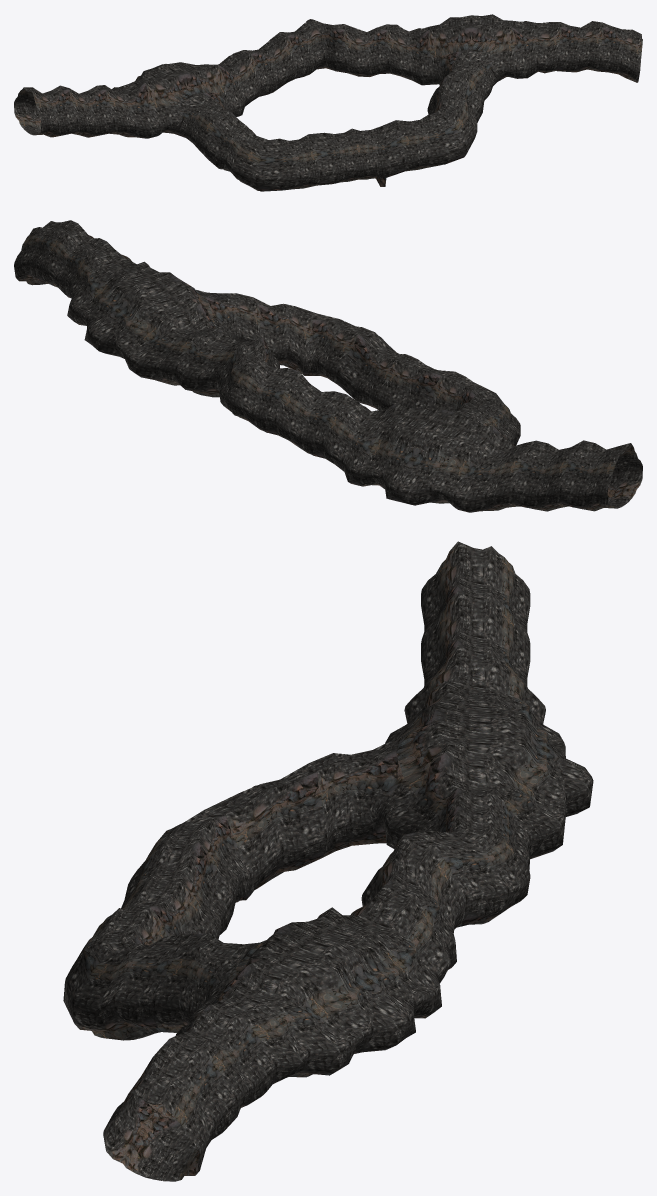
Rendered from CaveLevel1_part1.DAE.
3 views of the same model, one above another, from view 1: azimuth 30°, elevation 25°; view 2: azimuth 150°, elevation 25°; view 3: azimuth 270°, elevation 25° (orthographic). The views are drawn at different scales.
Visible parts, largest first — view 1: CaveWall; view 2: CaveWall; view 3: CaveWall.
Boxes of the visible parts, box(x1,y1,x2,y2) form: CaveWall: box(14, 14, 642, 191); CaveWall: box(14, 220, 642, 512); CaveWall: box(63, 541, 593, 1181).
Bounding box in the file's own units: 59.27 × 9.91 × 25.14.
